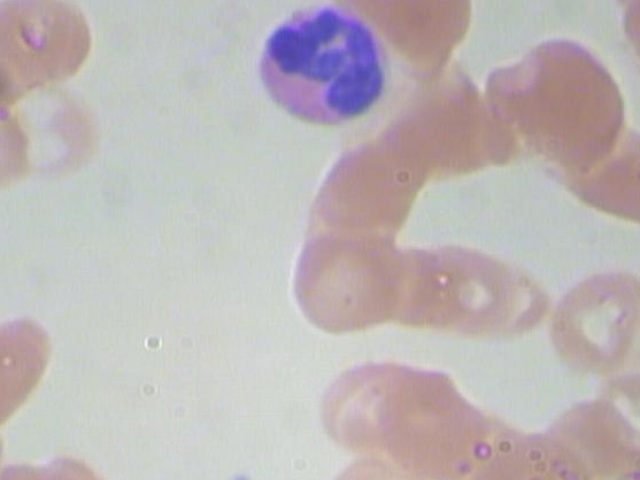Platelets: (212, 462, 264, 480)
RBC: (479, 32, 636, 177), (280, 232, 412, 338), (305, 350, 410, 463), (0, 77, 110, 183), (539, 262, 640, 374), (425, 238, 521, 341), (309, 151, 418, 232), (0, 305, 60, 443)
WBC: (252, 2, 400, 138)
